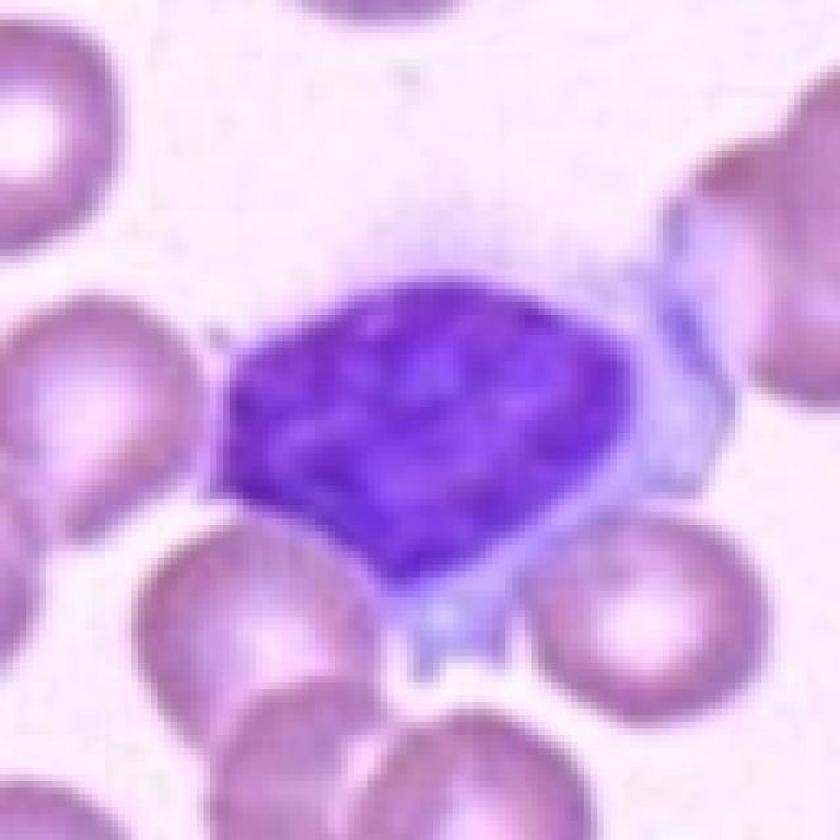lymphocyte: (180, 185, 753, 682)
